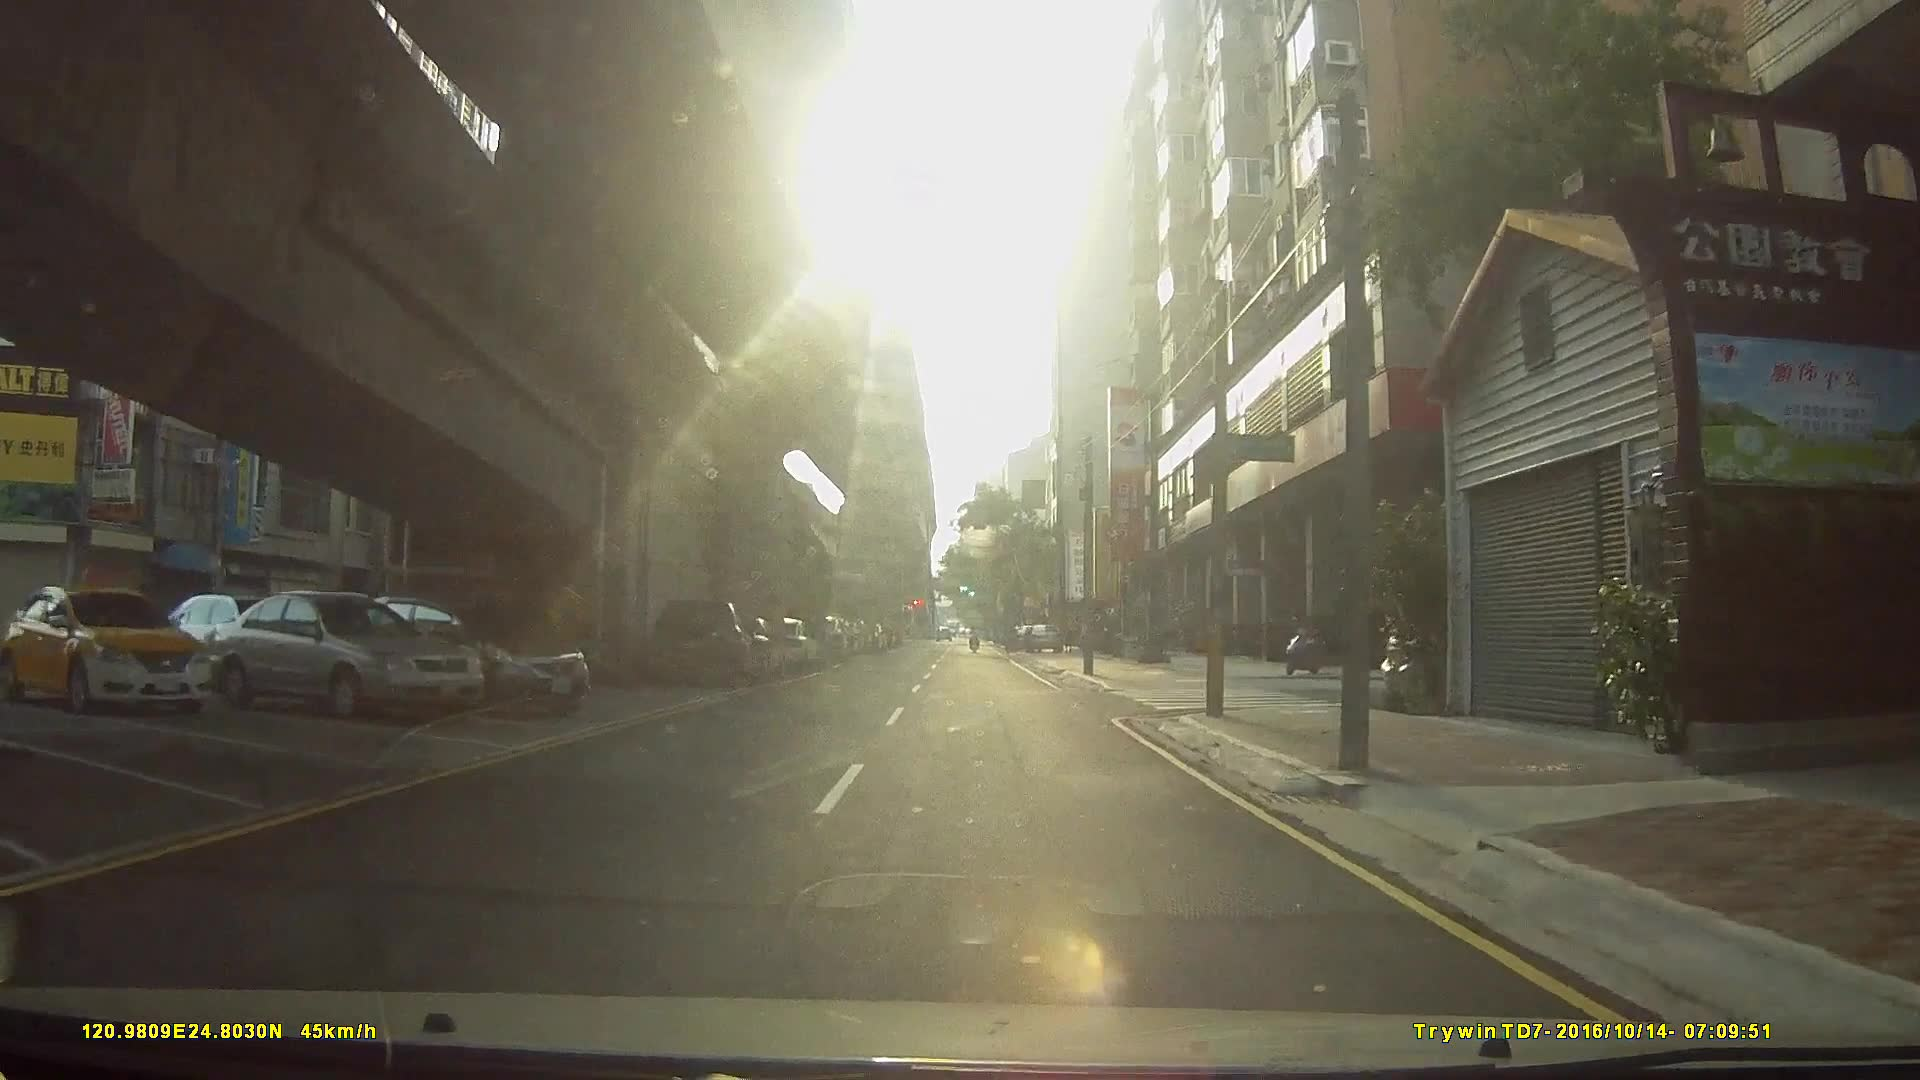vehicle: (204, 589, 484, 720), (344, 588, 593, 713), (0, 582, 208, 717), (644, 593, 756, 686)
